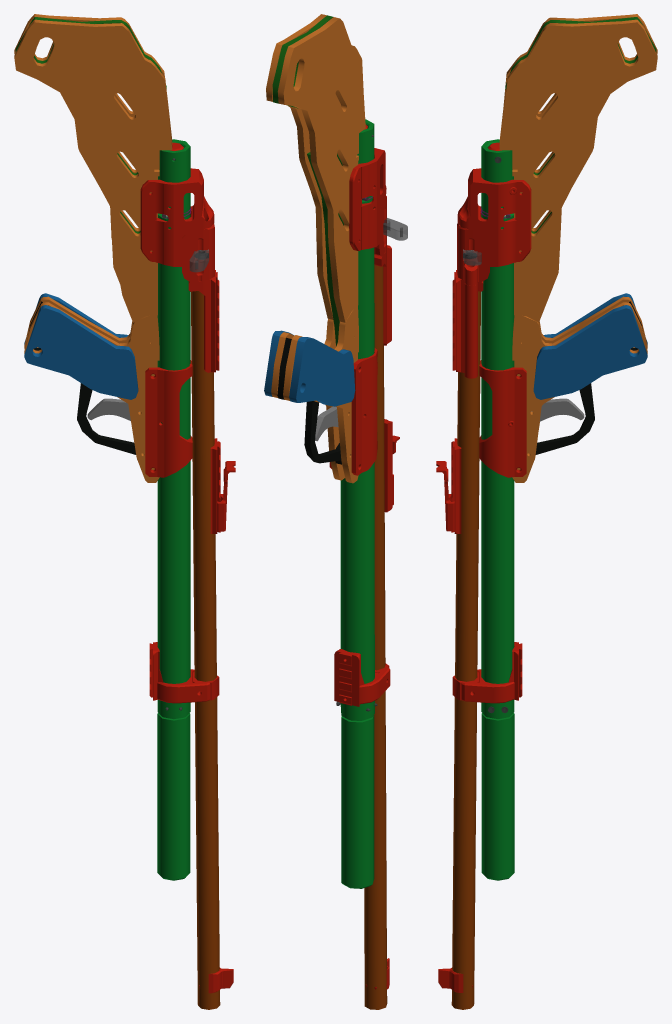
3 views of the same model, side by side, from view 1: azimuth 90°, elevation 25°; view 2: azimuth 150°, elevation 25°; view 3: azimuth 270°, elevation 25° (orthographic). The views are drawn at different scales.
Visible parts, largest first — view 1: G08_popor1a, G03_srombong_pipe5/8, G01_PPR_OD25_ID16, G07_popor8, G05_pipagagang_OD25_ID20, G01_chamber, G01_gripholder, G07_grip2a, G01_ringlaras1, G02_magasin, G02_loaderhouse, G08_popor1 (+7 smaller); view 2: G08_popor1a, G01_PPR_OD25_ID16, G03_srombong_pipe5/8, G05_pipagagang_OD25_ID20, G07_popor8, G01_chamber, G01_gripholder, G08_popor1, G07_grip2a, G01_ringlaras1, G07_grip1, G07_grip2 (+8 smaller); view 3: G08_popor1, G03_srombong_pipe5/8, G01_PPR_OD25_ID16, G07_grip3, G05_pipagagang_OD25_ID20, G01_chamber, G01_gripholder, G07_grip2, G02_magasin, G01_ringlaras1, G02_loaderhouse, G07_grip1 (+7 smaller).
Part boxes in pixels (x1,y1,x2,y2): G08_popor1a: [14, 19, 172, 322]; G03_srombong_pipe5/8: [191, 291, 220, 1009]; G01_PPR_OD25_ID16: [157, 139, 190, 719]; G07_popor8: [24, 305, 138, 399]; G05_pipagagang_OD25_ID20: [157, 713, 190, 880]; G01_chamber: [140, 168, 214, 266]; G01_gripholder: [145, 360, 192, 477]; G07_grip2a: [24, 302, 159, 482]; G01_ringlaras1: [149, 642, 210, 703]; G02_magasin: [188, 270, 219, 372]; G02_loaderhouse: [182, 224, 214, 281]; G08_popor1: [14, 14, 172, 283]; G08_popor1a: [277, 17, 365, 322]; G01_PPR_OD25_ID16: [340, 119, 374, 720]; G03_srombong_pipe5/8: [364, 265, 387, 1009]; G05_pipagagang_OD25_ID20: [341, 715, 374, 888]; G07_popor8: [289, 337, 355, 406]; G01_chamber: [349, 148, 386, 250]; G01_gripholder: [329, 348, 377, 475]; G08_popor1: [266, 14, 340, 319]; G07_grip2a: [283, 305, 358, 483]; G01_ringlaras1: [334, 649, 390, 706]; G07_grip1: [277, 337, 341, 464]; G07_grip2: [271, 318, 344, 480]; G08_popor1: [499, 19, 657, 322]; G03_srombong_pipe5/8: [451, 291, 480, 1009]; G01_PPR_OD25_ID16: [481, 139, 514, 718]; G07_grip3: [533, 305, 647, 399]; G05_pipagagang_OD25_ID20: [481, 713, 514, 880]; G01_chamber: [457, 168, 531, 266]; G01_gripholder: [479, 360, 526, 477]; G07_grip2: [512, 302, 647, 482]; G02_magasin: [452, 270, 483, 378]; G01_ringlaras1: [461, 642, 522, 703]; G02_loaderhouse: [457, 223, 489, 285]; G07_grip1: [535, 301, 642, 454].
Size of the model in its own units: 51.71 by 828 by 168.
